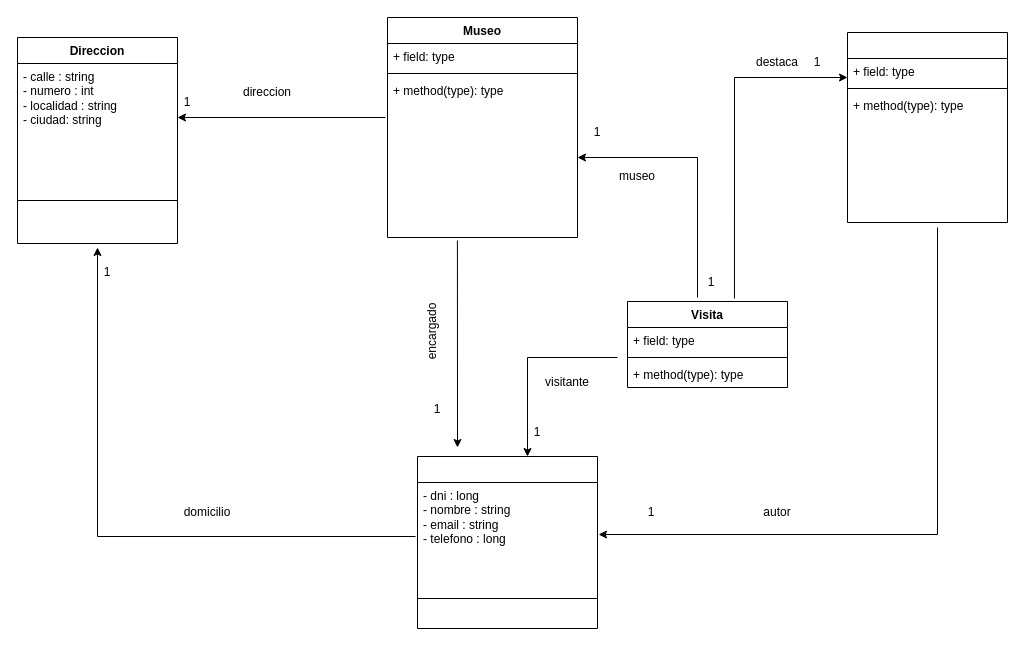
This 1025x646 diagram has some shape labels left out. The shapes that lost their labels are listed below. From the top down, each one's box as (x1, y1, x2, y2) in pixels, then its label:
(846, 32, 1008, 222): Pintura
(416, 456, 598, 628): Persona
